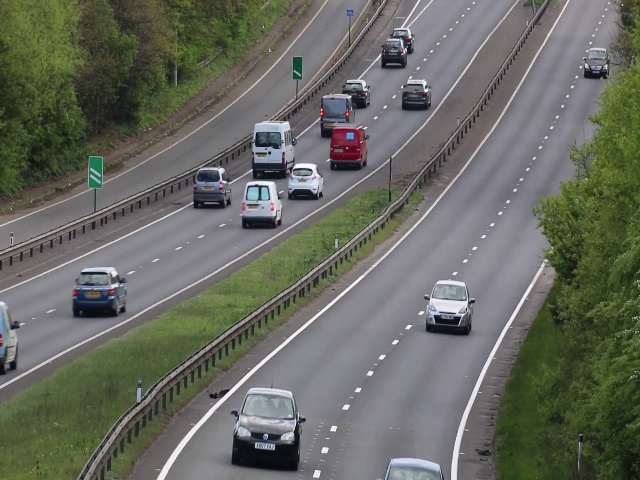car: (229, 386, 301, 471), (72, 266, 127, 320), (423, 278, 472, 335), (249, 121, 296, 176), (242, 180, 283, 231), (328, 126, 368, 171), (319, 92, 357, 139), (192, 166, 233, 208), (1, 295, 23, 373), (287, 162, 325, 202), (400, 77, 432, 109), (583, 44, 609, 82), (379, 39, 409, 68), (340, 79, 371, 107), (392, 26, 416, 50)
